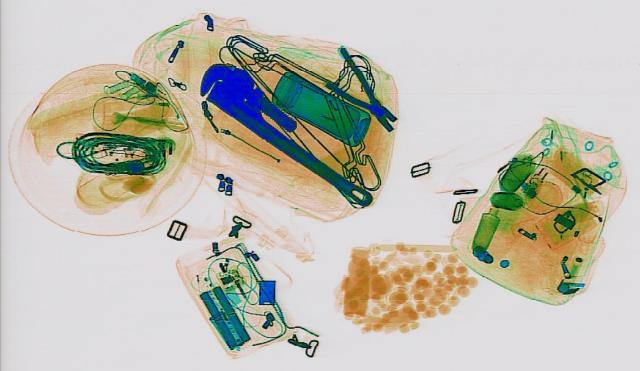Pliers: (296, 46, 420, 134)
Wrench: (173, 57, 404, 210)
